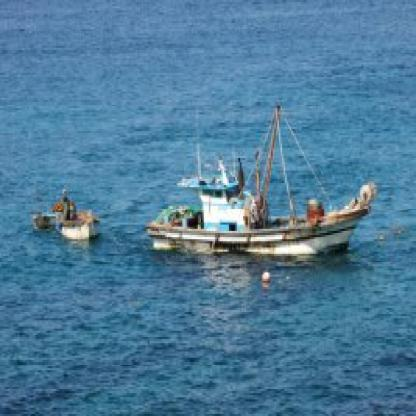fish-b: (140, 94, 379, 264)
